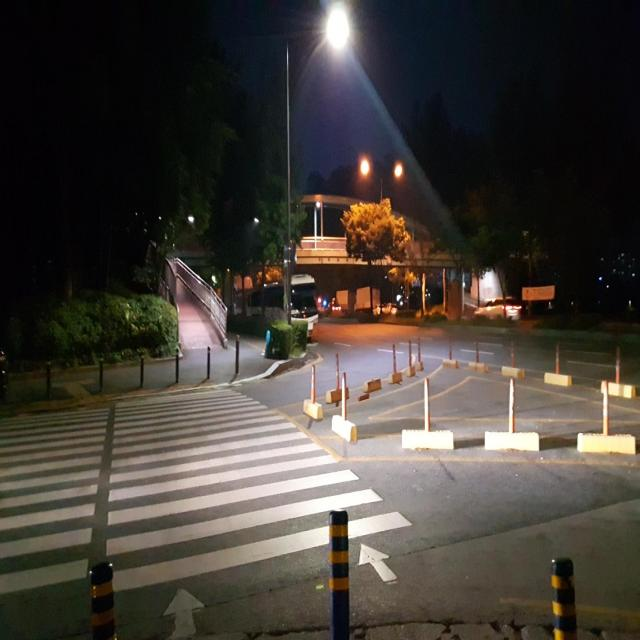횡단보도: (0, 384, 416, 640)
